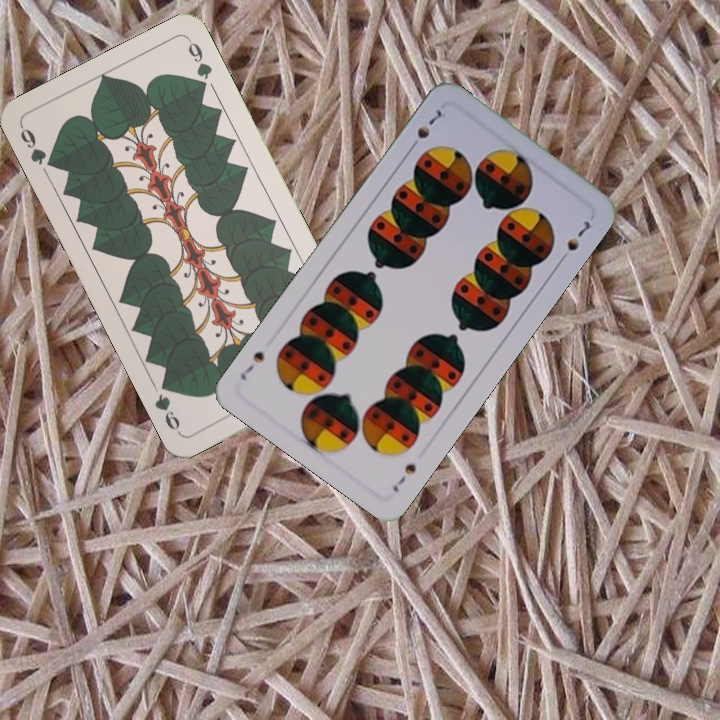G9: (16, 122, 60, 171)
S7: (405, 105, 445, 153), (388, 459, 419, 495)
